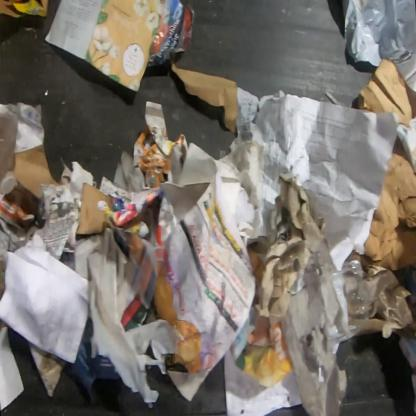cardboard: (76, 141, 221, 257), (347, 152, 415, 273), (169, 57, 239, 135), (357, 58, 415, 130), (12, 143, 64, 200), (0, 0, 50, 20)
soft_plastic: (74, 228, 186, 409), (339, 0, 416, 92), (324, 257, 371, 356), (146, 0, 197, 68), (113, 148, 147, 192), (0, 110, 19, 184)
